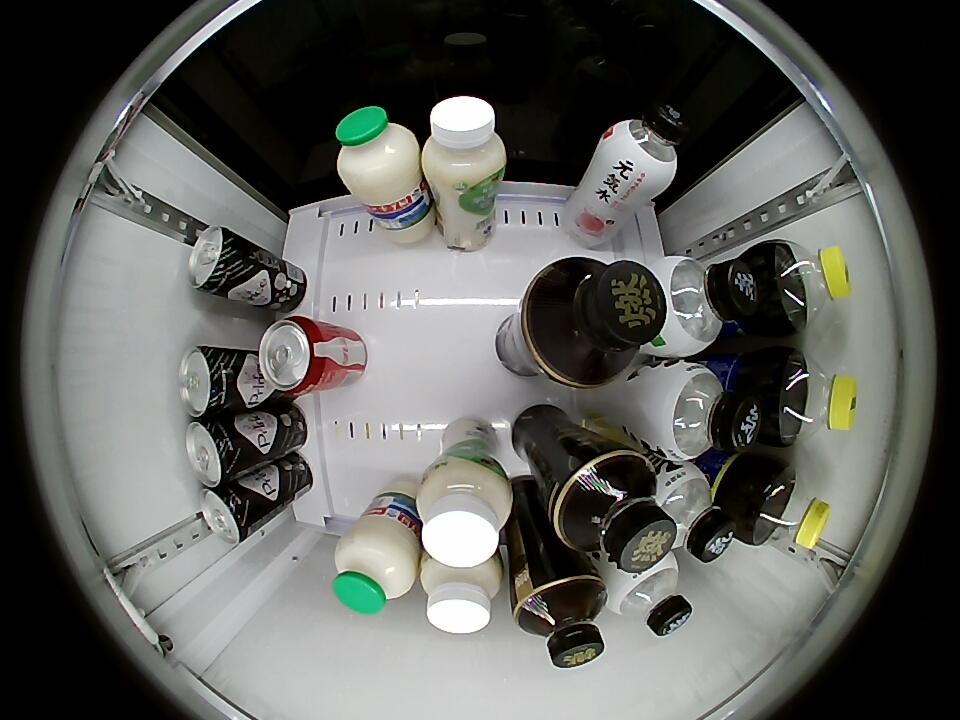baishikele: (774, 351, 858, 445), (766, 242, 851, 331), (748, 466, 832, 551)
kele: (258, 316, 328, 394)
liziyuan: (335, 105, 422, 204), (333, 518, 419, 615)
qingdaowangzi-1: (178, 345, 241, 418), (185, 418, 245, 486), (187, 225, 244, 296), (198, 485, 255, 544)
rancha-1: (519, 257, 669, 387), (551, 450, 680, 572), (513, 574, 607, 669)
yousuanru: (416, 456, 514, 567), (421, 96, 507, 193), (420, 551, 504, 634)
yuanqishui: (642, 359, 762, 461), (651, 255, 757, 358), (651, 462, 736, 563), (597, 101, 688, 194), (604, 554, 693, 636)
